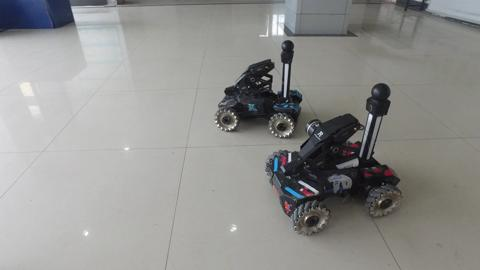chariot: (260, 80, 409, 244), (210, 34, 311, 148)
